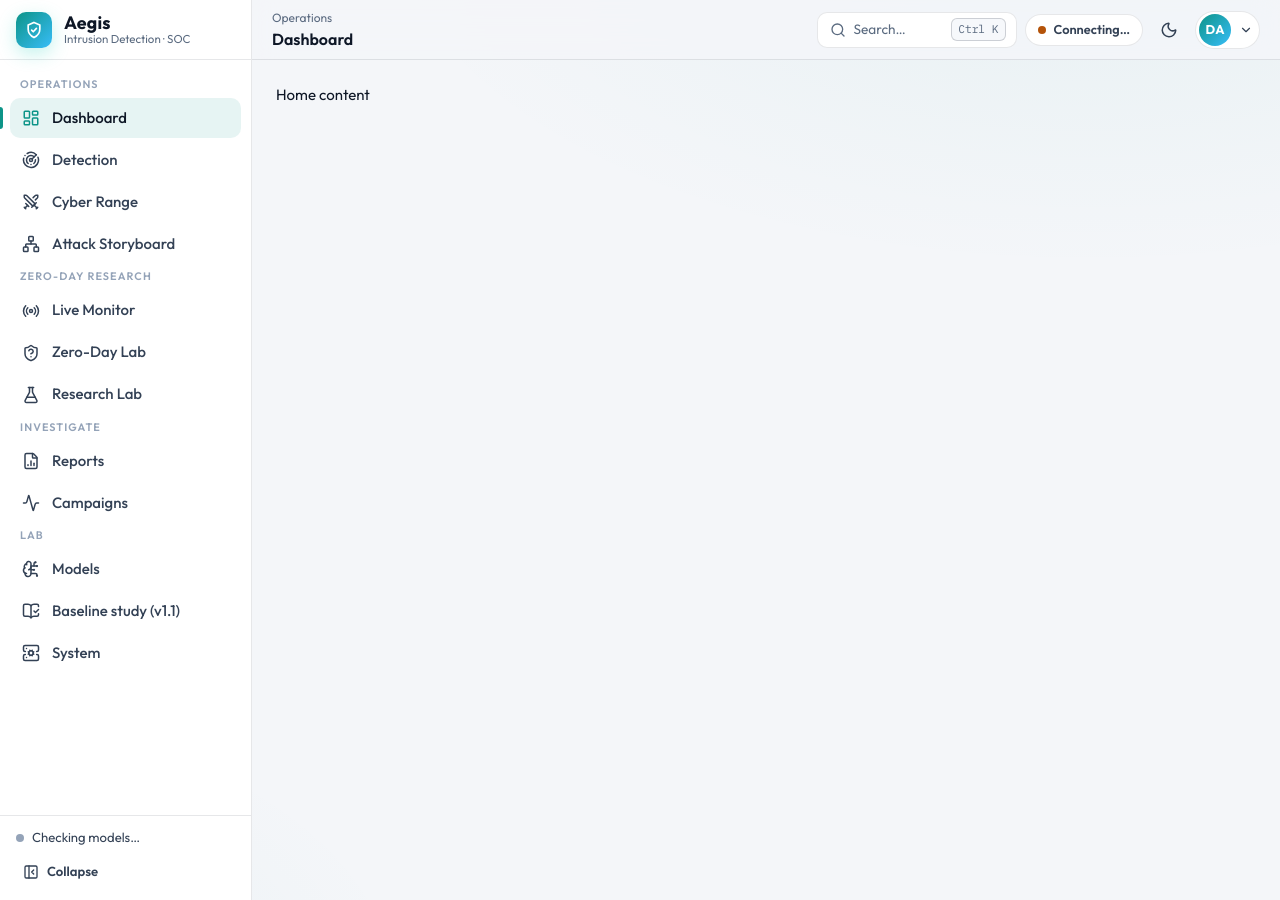
it: AppLayout › opens the command palette with Ctrl+K and filters pages
This screenshot has width=1280, height=900.
Press k
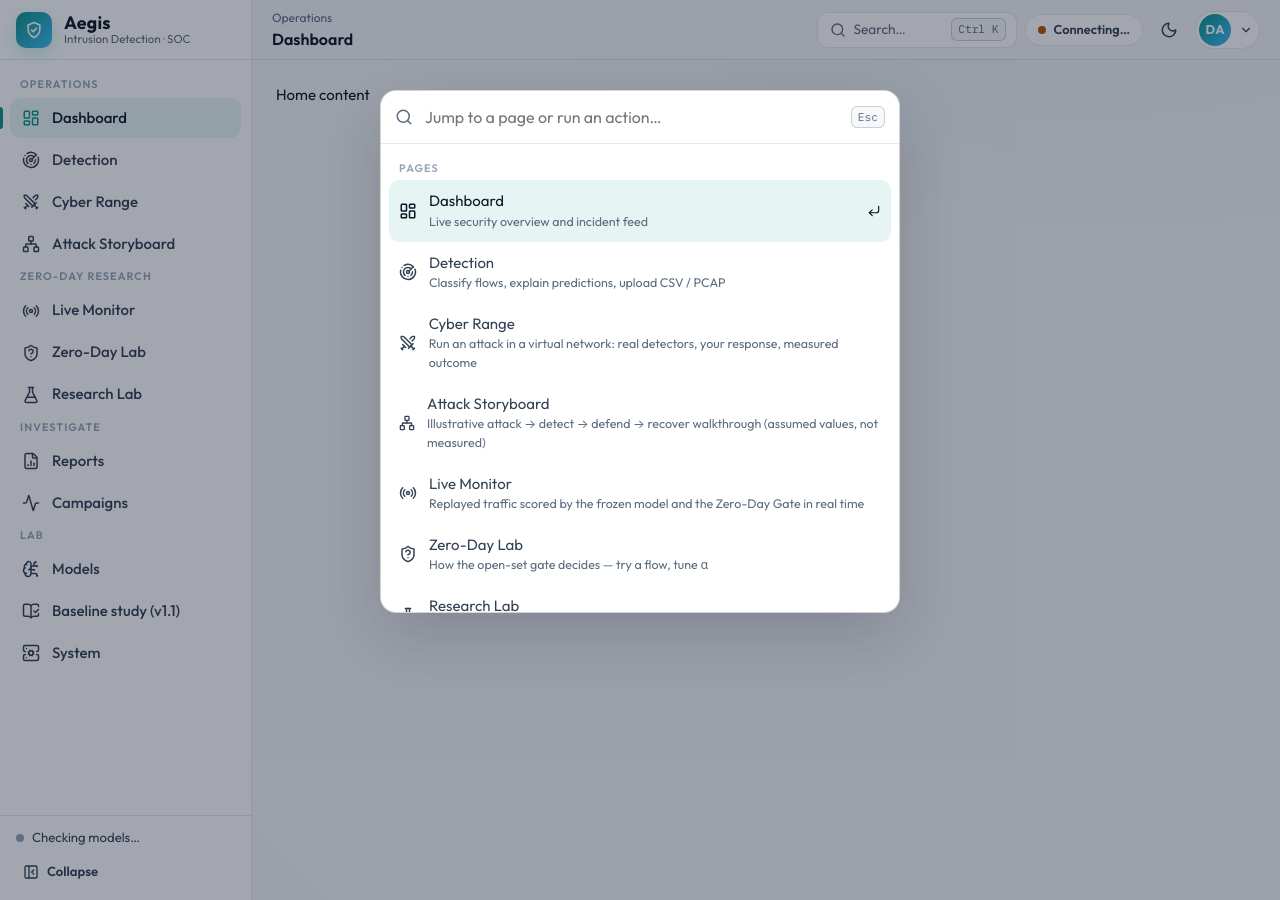
Type "drift" into the dropdown named "search pages" at coordinates (632, 117), box [423, 91, 841, 143]
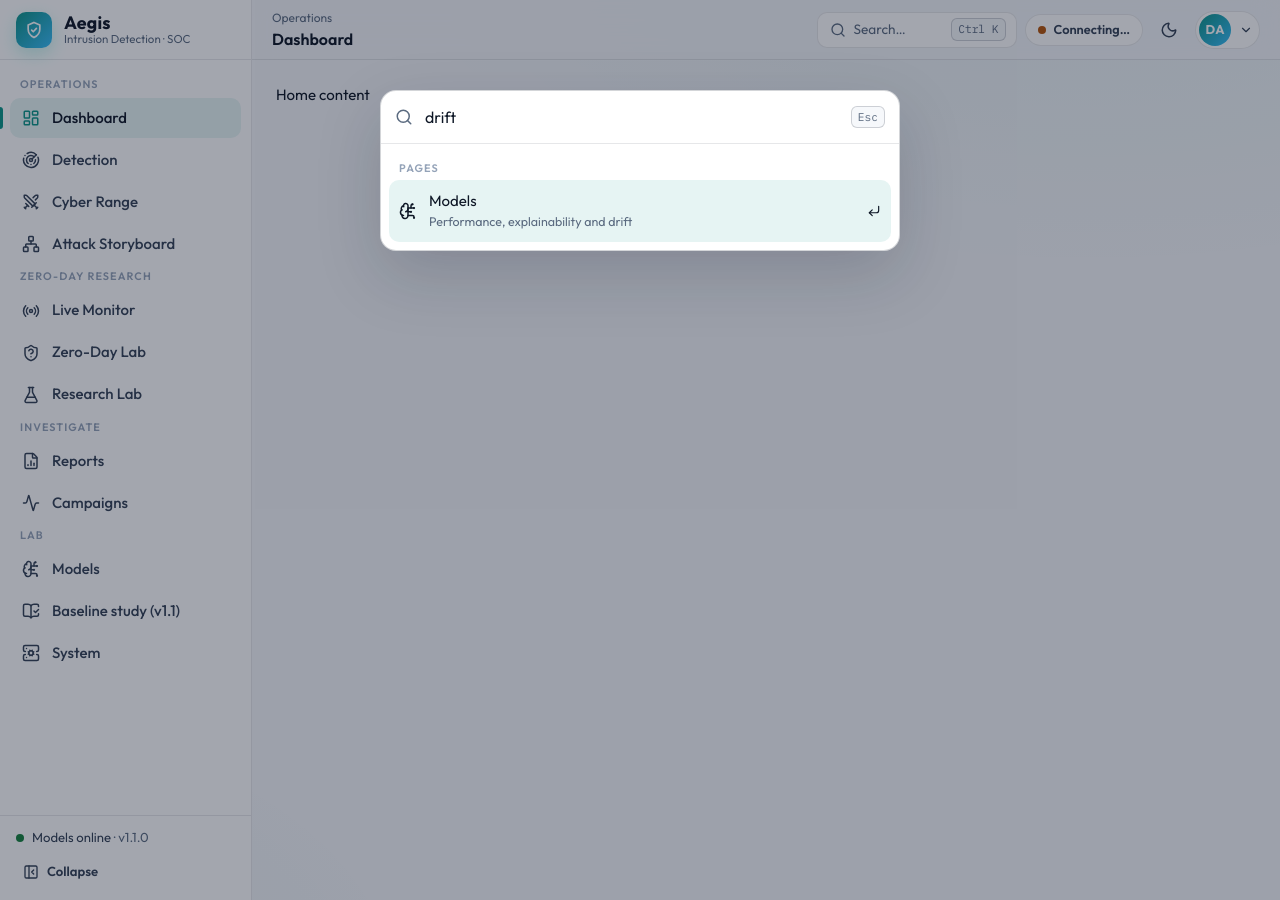
Now the number of options is 1, box [389, 180, 891, 242]
Now the option shows "Models", box [389, 180, 891, 242]
Now the text "Models online · v1.1.0" is shown, box [32, 828, 149, 848]
